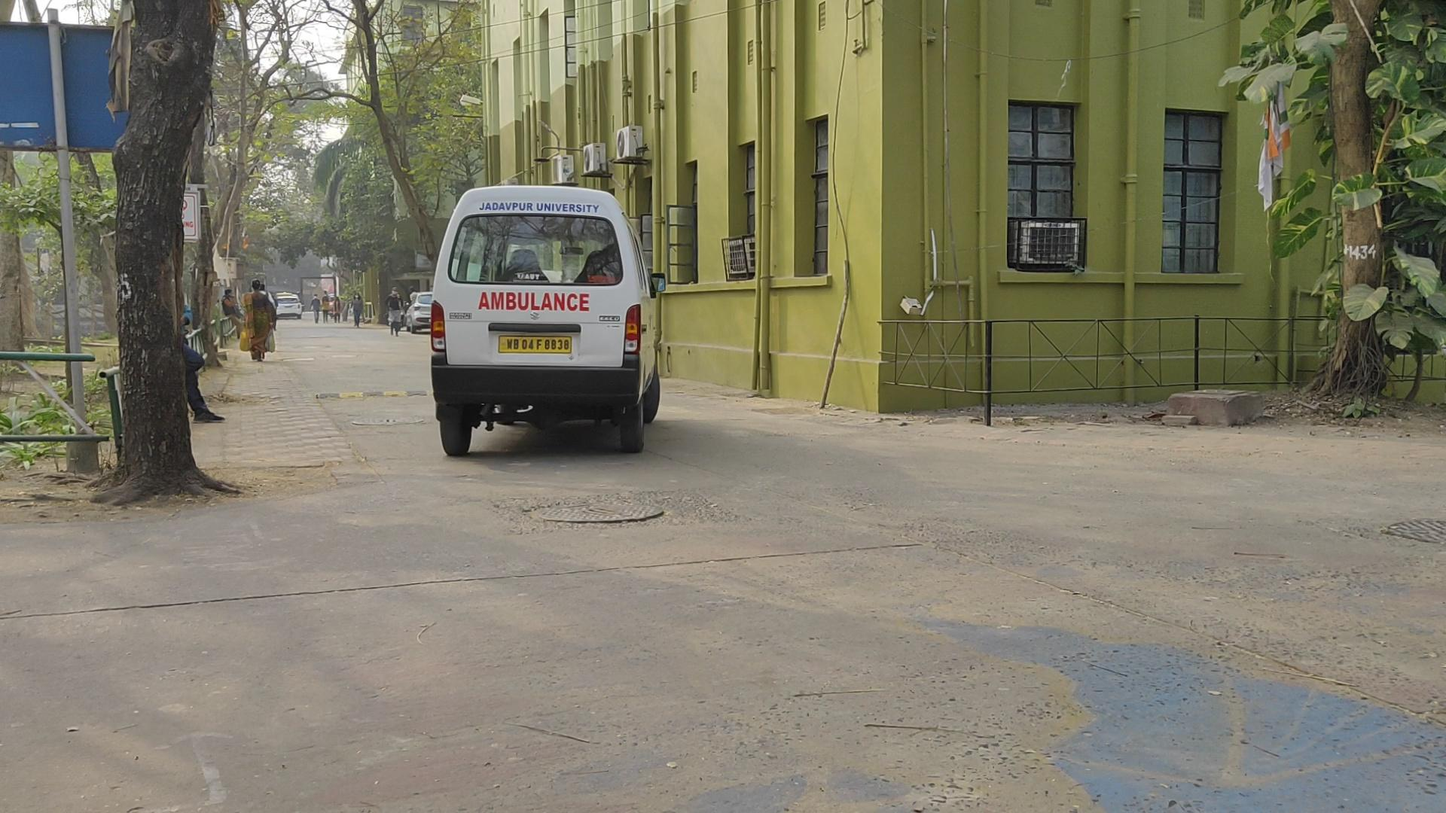car: (404, 291, 435, 334), (273, 292, 304, 320)
van: (429, 184, 660, 457)
